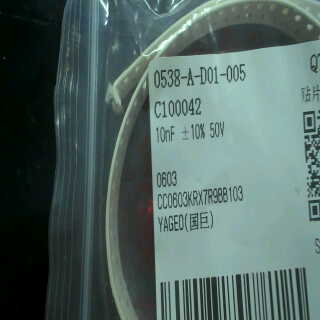10nF: (153, 123, 178, 147)
